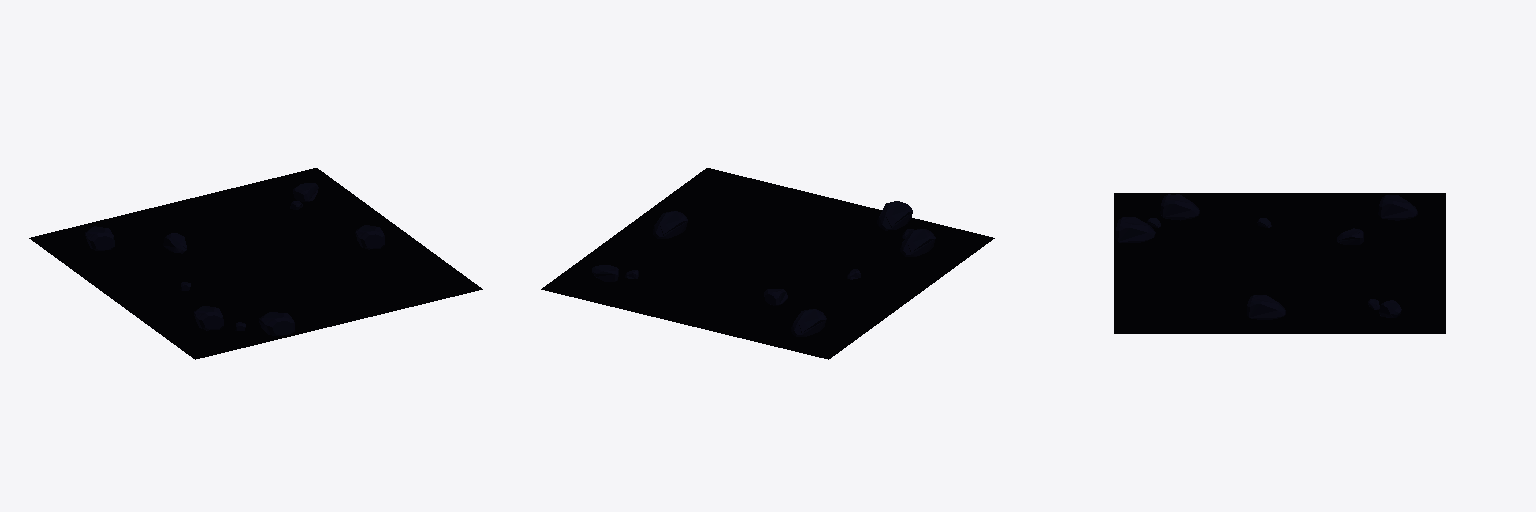
The model's file is tile_1.obj.
The picture shows the model from 3 angles: view 1: azimuth 30°, elevation 25°; view 2: azimuth 150°, elevation 25°; view 3: azimuth 270°, elevation 25°; orthographic projection.
Parts seen in each view (by area): view 1: Cube.041_Cube.043, Cube.039_Cube.041, Cube.038_Cube.040, Cube.014_Cube.034, Cube.035_Cube.037; view 2: Cube.041_Cube.043, Cube.039_Cube.041, Cube.038_Cube.040, Cube.035_Cube.037, Cube.014_Cube.034; view 3: Cube.041_Cube.043, Cube.039_Cube.041, Cube.038_Cube.040, Cube.035_Cube.037, Cube.014_Cube.034.
Boxes of the visible parts, x1=… form: Cube.041_Cube.043: x1=29, y1=168, x2=482, y2=359; Cube.039_Cube.041: x1=259, y1=312, x2=294, y2=335; Cube.038_Cube.040: x1=194, y1=306, x2=223, y2=330; Cube.014_Cube.034: x1=355, y1=225, x2=384, y2=249; Cube.035_Cube.037: x1=85, y1=226, x2=114, y2=250; Cube.041_Cube.043: x1=541, y1=168, x2=994, y2=359; Cube.039_Cube.041: x1=877, y1=201, x2=912, y2=230; Cube.038_Cube.040: x1=900, y1=229, x2=935, y2=256; Cube.035_Cube.037: x1=791, y1=309, x2=826, y2=336; Cube.014_Cube.034: x1=653, y1=211, x2=687, y2=238; Cube.041_Cube.043: x1=1114, y1=193, x2=1445, y2=333; Cube.039_Cube.041: x1=1115, y1=217, x2=1155, y2=242; Cube.038_Cube.040: x1=1160, y1=194, x2=1199, y2=220; Cube.035_Cube.037: x1=1378, y1=195, x2=1417, y2=220; Cube.014_Cube.034: x1=1247, y1=295, x2=1285, y2=319.
Bounding box in the file's own units: 4 × 0.2656 × 4.